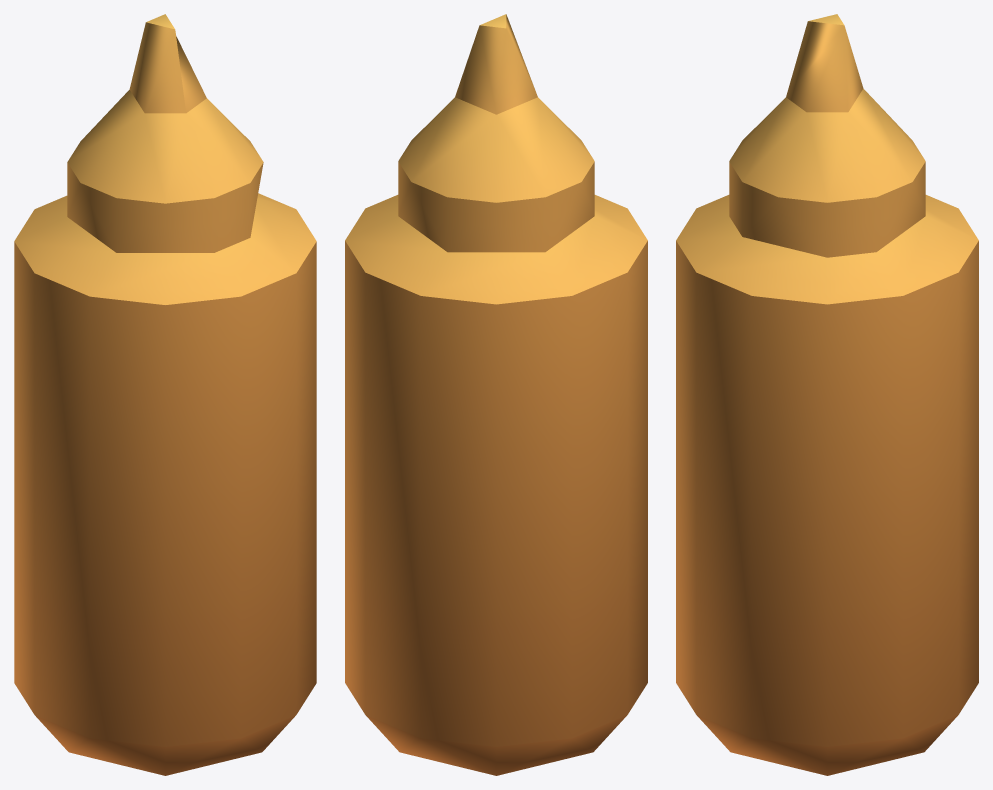
The model's file is cc0-mustard-lod1.glb.
3 views of the same model, side by side, from view 1: azimuth 30°, elevation 25°; view 2: azimuth 150°, elevation 25°; view 3: azimuth 270°, elevation 25° (orthographic).
Parts seen in each view (by area): view 1: part_0; view 2: part_0; view 3: part_0.
Part boxes in pixels (x1,y1,x2,y2): part_0: (14, 14, 316, 775); part_0: (345, 14, 647, 775); part_0: (676, 14, 978, 775).
Bounding box in the file's own units: 0.3 × 0.7731 × 0.3.
Materials: 1 (1 with a texture image).
